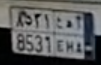1: (44, 14, 52, 54)
3: (34, 13, 44, 54)
5: (25, 14, 34, 53)
8: (16, 13, 24, 53)
A: (75, 16, 83, 54)
E: (56, 17, 65, 52)
H: (65, 19, 75, 53)
